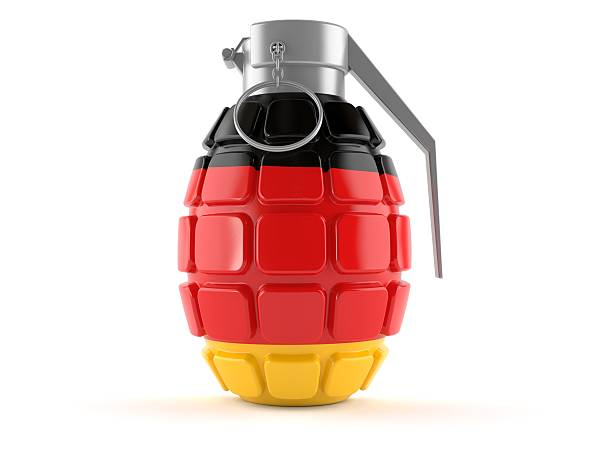e1: (171, 19, 443, 408)
